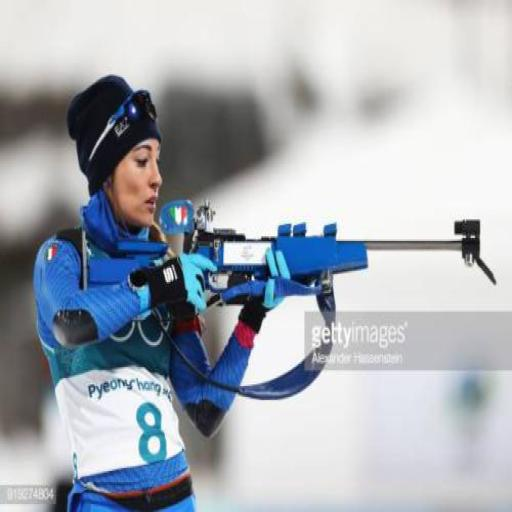shooting: (31, 71, 291, 510)
